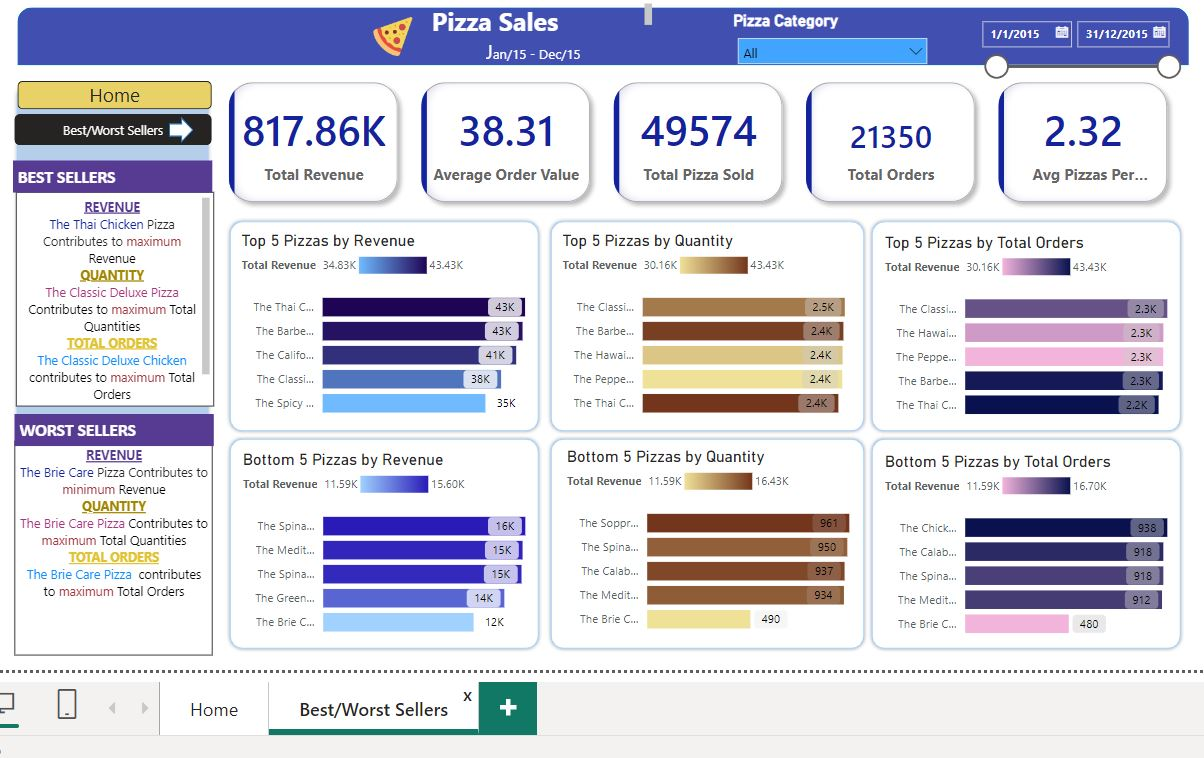

Layout of this report page (visuals, bound fields, positions):
{"tool":"powerbi","page":{"name":"Best/Worst Sellers","canvas":[1280,720],"ordinal":1},"visuals":[{"type":"cardVisual","fields":{"Data":["pizza_sales.Total Revenue","pizza_sales.Average Order Value","pizza_sales.Total Pizza Sold","pizza_sales.Total Orders","pizza_sales.Avg Pizzas Per Order"]},"box":[227.4,79,1030.6,161.3],"z":0},{"type":"shape","box":[21,17.7,1241.9,61.3],"z":1000},{"type":"textbox","box":[454.8,8.1,243.5,50],"z":2000},{"type":"textbox","box":[512.9,43.5,185.5,50],"z":3000},{"type":"image","box":[383.9,22.6,71,51.6],"z":4000},{"type":"shape","box":[241.9,240.3,335.5,230.6],"z":5000},{"type":"shape","box":[16.1,95.2,211.3,604.8],"z":15000},{"type":"textbox","box":[19.4,212.9,209.7,227.4],"z":17000},{"type":"textbox","box":[16.1,179,211.3,33.9],"z":18000},{"type":"slicer","title":"Pizza Category","fields":{"Values":["pizza_sales.pizza_category"]},"box":[774.2,21,221,143.5],"z":20000},{"type":"slicer","title":"Pizza Category","fields":{"Values":["pizza_sales.order_date"]},"box":[1030.6,22.6,232.3,71],"z":21000},{"type":"shape","box":[582.3,240.3,340.3,230.6],"z":21001},{"type":"shape","box":[922.6,240.3,335.5,230.6],"z":21002},{"type":"shape","box":[241.9,471,335.5,230.6],"z":21003},{"type":"shape","box":[582.3,471,340.3,230.6],"z":21004},{"type":"shape","box":[922.6,471,335.5,230.6],"z":21005},{"type":"barChart","title":"Top 5 Pizzas by Revenue","fields":{"Category":["pizza_sales.pizza_name"],"Y":["pizza_sales.Total Revenue"]},"box":[253.2,254.8,311.3,208.1],"z":21006},{"type":"barChart","title":"Bottom 5 Pizzas by Revenue","fields":{"Category":["pizza_sales.pizza_name"],"Y":["pizza_sales.Total Revenue"]},"box":[254.8,487.1,309.7,208.1],"z":21007},{"type":"barChart","title":"Top 5 Pizzas by Quantity","fields":{"Category":["pizza_sales.pizza_name"],"Y":["pizza_sales.Total Pizza Sold"]},"box":[593.5,254.8,309.7,208.1],"z":21008},{"type":"barChart","title":"Bottom 5 Pizzas by Quantity","fields":{"Category":["pizza_sales.pizza_name"],"Y":["pizza_sales.Total Pizza Sold"]},"box":[598.4,483.9,309.7,208.1],"z":21009},{"type":"barChart","title":"Top 5 Pizzas by Total Orders","fields":{"Category":["pizza_sales.pizza_name"],"Y":["pizza_sales.Total Orders"]},"box":[935.5,256.5,309.7,208.1],"z":21011},{"type":"barChart","title":"Bottom 5 Pizzas by Total Orders","fields":{"Category":["pizza_sales.pizza_name"],"Y":["pizza_sales.Total Orders"]},"box":[935.5,488.7,309.7,208.1],"z":21012},{"type":"textbox","box":[17.7,477.4,209.7,227.4],"z":21014},{"type":"textbox","box":[17.7,448.4,211.3,33.9],"z":21015},{"type":"pageNavigator","box":[21,95.2,206.5,30.6],"z":21016},{"type":"pageNavigator","box":[17.7,130.6,209.7,33.9],"z":21017},{"type":"shape","box":[180.6,133.9,25.8,27.4],"z":21018}]}

Visuals, with their boxes on the page's 1280x720 design canvas (x1, y1, x2, y2). These are canvas units, not pixel positions in the 1204x758 screenshot, which may show the page scaled, cropped or inside an application window:
cardVisual - pizza_sales.Total Revenue x pizza_sales.Average Order Value: <bbox>227, 79, 1258, 240</bbox>
shape: <bbox>21, 18, 1263, 79</bbox>
textbox: <bbox>455, 8, 698, 58</bbox>
textbox: <bbox>513, 44, 698, 94</bbox>
image: <bbox>384, 23, 455, 74</bbox>
shape: <bbox>242, 240, 577, 471</bbox>
shape: <bbox>16, 95, 227, 700</bbox>
textbox: <bbox>19, 213, 229, 440</bbox>
textbox: <bbox>16, 179, 227, 213</bbox>
"Pizza Category" slicer: <bbox>774, 21, 995, 164</bbox>
"Pizza Category" slicer: <bbox>1031, 23, 1263, 94</bbox>
shape: <bbox>582, 240, 923, 471</bbox>
shape: <bbox>923, 240, 1258, 471</bbox>
shape: <bbox>242, 471, 577, 702</bbox>
shape: <bbox>582, 471, 923, 702</bbox>
shape: <bbox>923, 471, 1258, 702</bbox>
"Top 5 Pizzas by Revenue" barChart: <bbox>253, 255, 564, 463</bbox>
"Bottom 5 Pizzas by Revenue" barChart: <bbox>255, 487, 564, 695</bbox>
"Top 5 Pizzas by Quantity" barChart: <bbox>594, 255, 903, 463</bbox>
"Bottom 5 Pizzas by Quantity" barChart: <bbox>598, 484, 908, 692</bbox>
"Top 5 Pizzas by Total Orders" barChart: <bbox>936, 256, 1245, 465</bbox>
"Bottom 5 Pizzas by Total Orders" barChart: <bbox>936, 489, 1245, 697</bbox>
textbox: <bbox>18, 477, 227, 705</bbox>
textbox: <bbox>18, 448, 229, 482</bbox>
pageNavigator: <bbox>21, 95, 228, 126</bbox>
pageNavigator: <bbox>18, 131, 227, 164</bbox>
shape: <bbox>181, 134, 206, 161</bbox>
